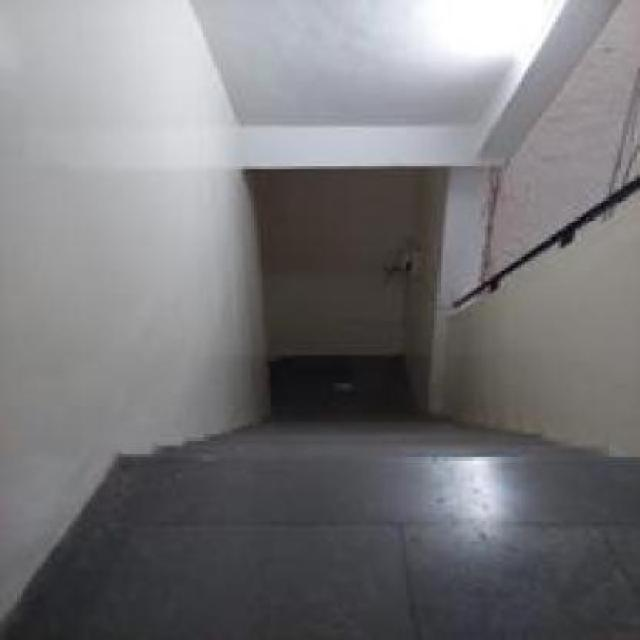stair: (138, 335, 562, 535)
